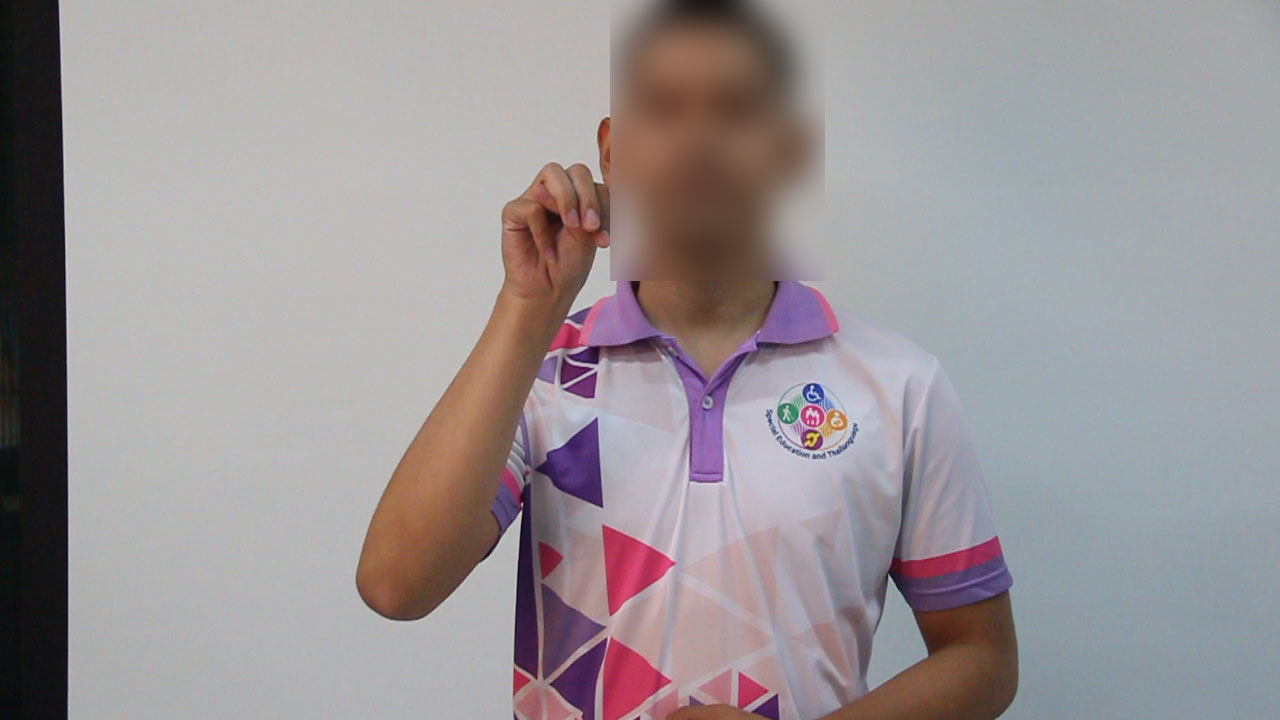mor: (497, 150, 618, 316)
